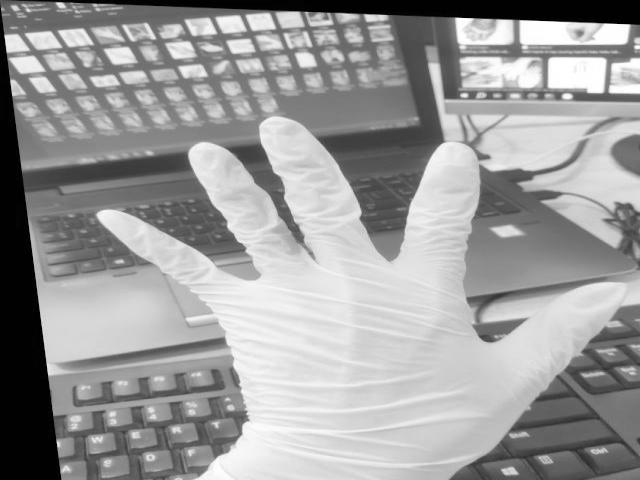gloved: (96, 116, 626, 480)
